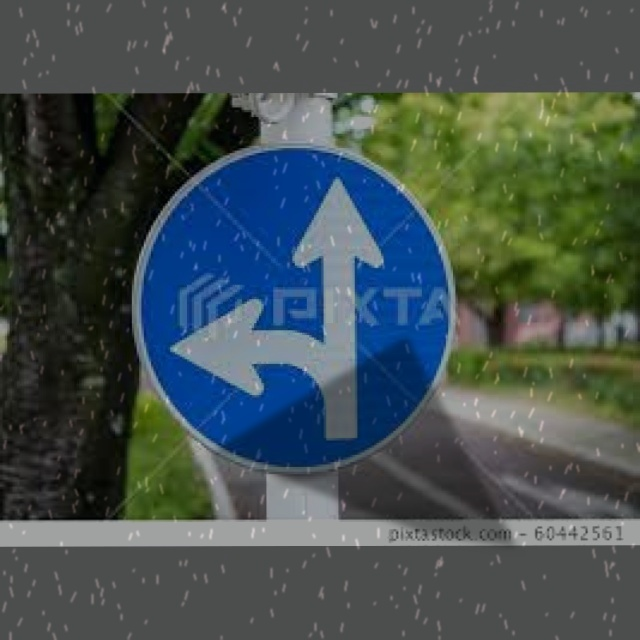Compulsory_Ahead_or_Turn_Left: (132, 151, 459, 460)
